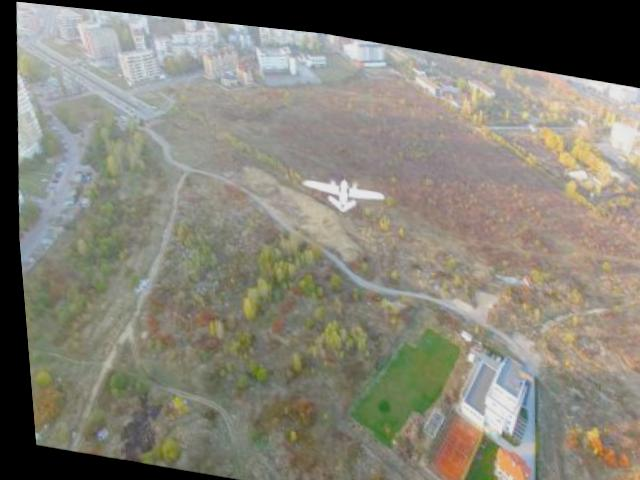uav: (289, 157, 389, 216)
